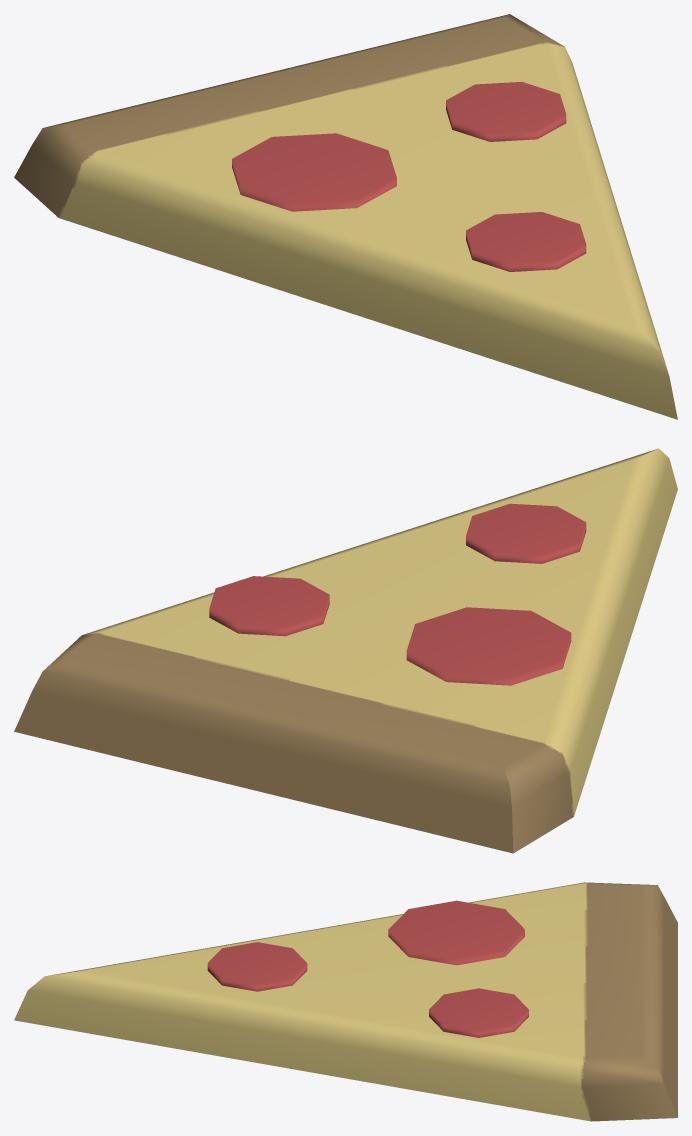
Rendered from Pizza.fbx.
3 views of the same model, one above another, from view 1: azimuth 30°, elevation 25°; view 2: azimuth 150°, elevation 25°; view 3: azimuth 270°, elevation 25° (orthographic). The views are drawn at different scales.
Visible parts, largest first — view 1: Pizza; view 2: Pizza; view 3: Pizza.
Part boxes in pixels (x1,y1,x2,y2): Pizza: (14,14,677,419); Pizza: (14,448,677,853); Pizza: (14,882,677,1121).
Bounding box in the file's own units: 13.36 × 1.77 × 18.57.
Materials: 1 (1 with a texture image).
